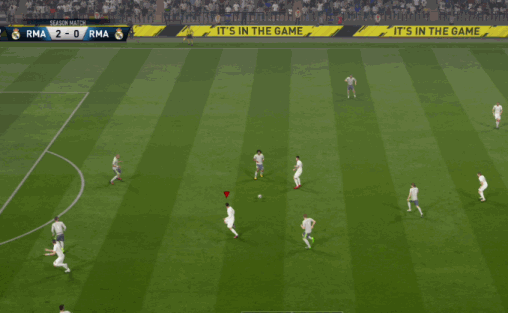ball: (256, 191, 264, 201)
player: (49, 241, 72, 275), (220, 200, 240, 239), (300, 212, 318, 250), (405, 183, 425, 216), (290, 153, 306, 188), (51, 215, 66, 249), (475, 170, 490, 203), (110, 152, 124, 184), (492, 103, 502, 130), (254, 150, 263, 179), (346, 75, 356, 95)
